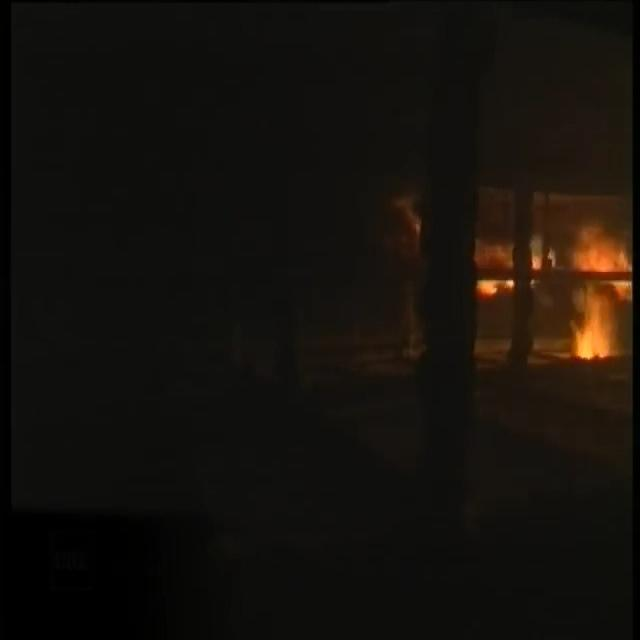Fire: (498, 212, 635, 366)
